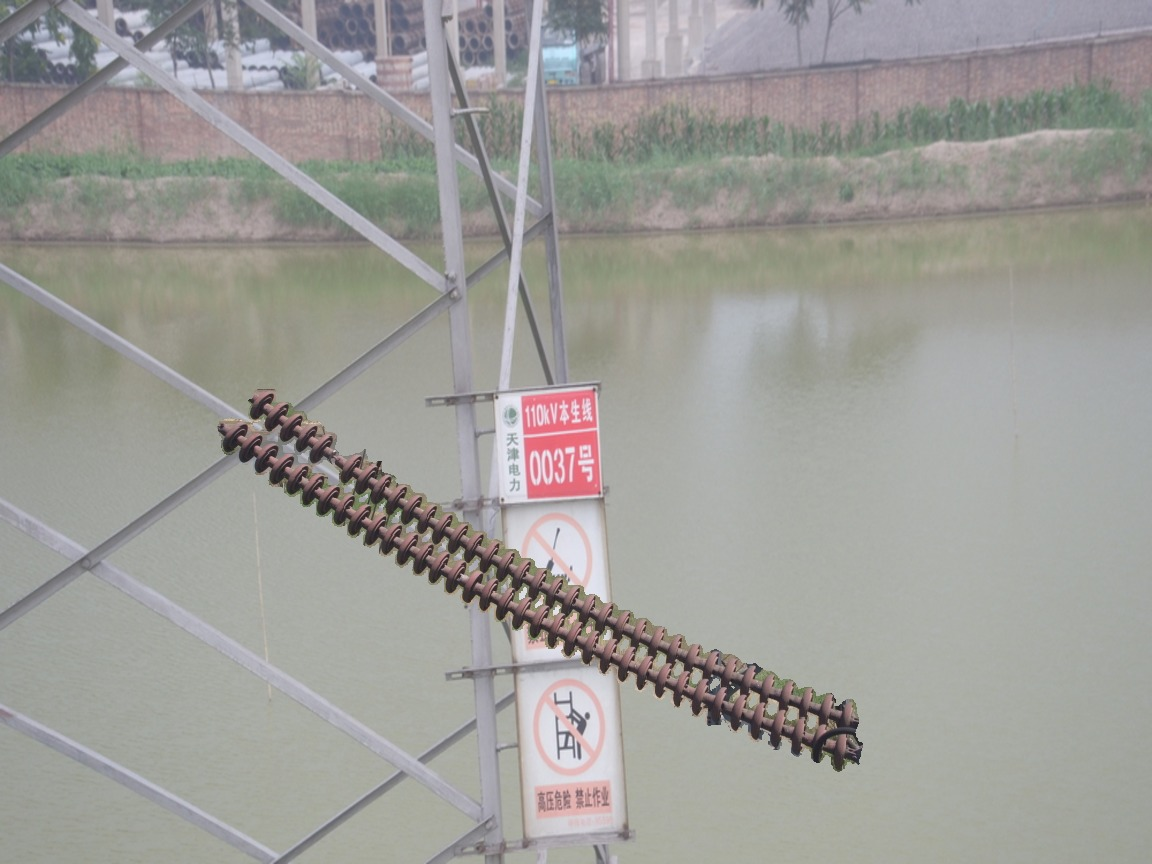defect: (304, 429, 368, 487)
